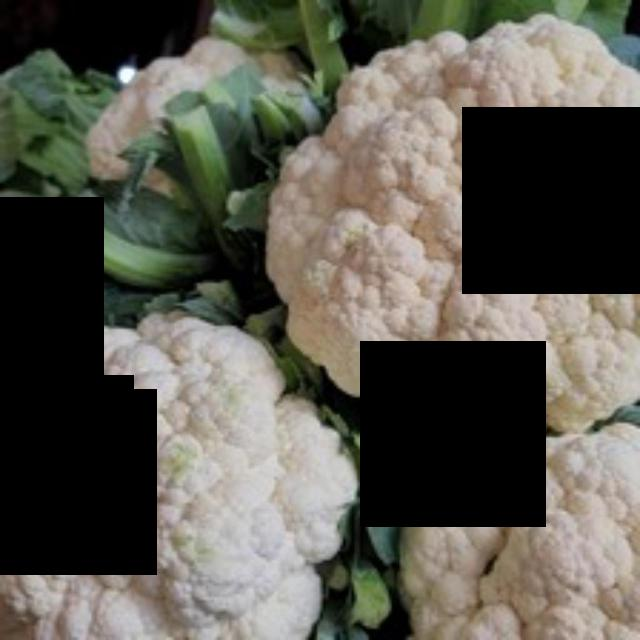cauliflower: (263, 6, 637, 471)
